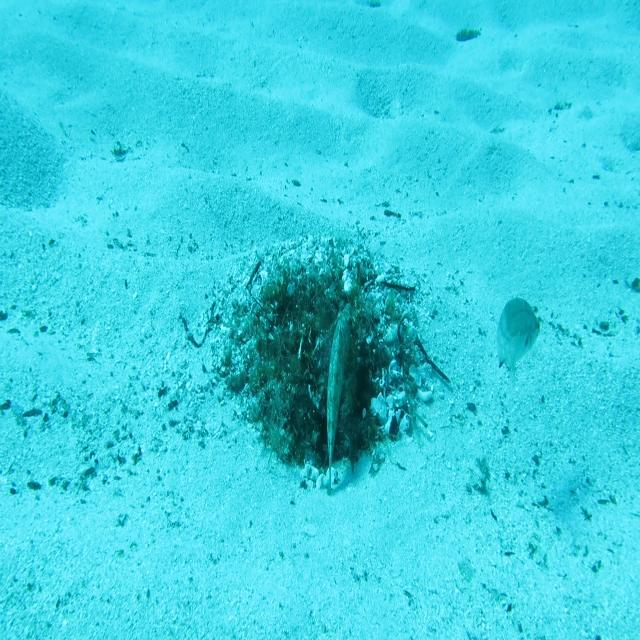LF: (318, 298, 361, 498)
core_nest: (292, 290, 342, 323)
female: (492, 296, 541, 402)
nest: (207, 230, 441, 502)
vegetation: (452, 25, 482, 45)
